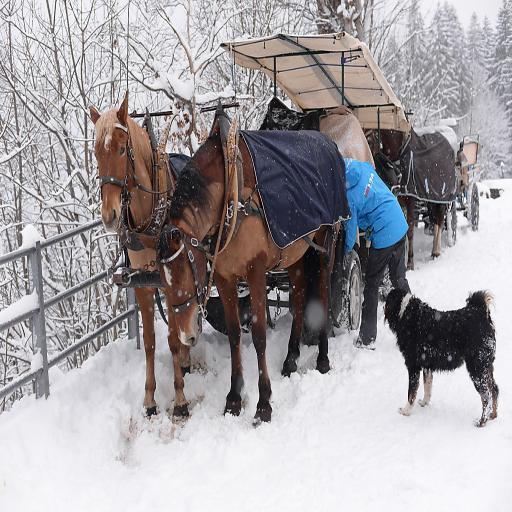horse: (133, 130, 339, 424), (88, 104, 196, 421), (362, 125, 448, 273)
